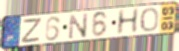6: (91, 10, 111, 38), (45, 15, 62, 43)
H: (115, 7, 141, 37)
N: (68, 12, 89, 41)
O: (139, 7, 160, 33)
Z: (19, 17, 44, 45)
